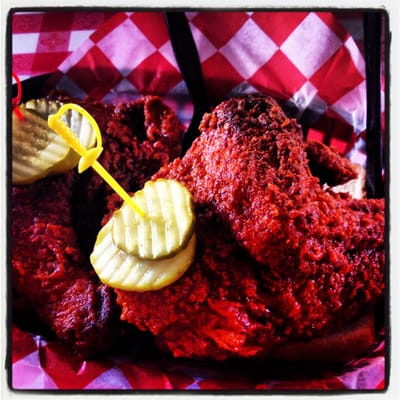salad: (152, 94, 384, 355)
